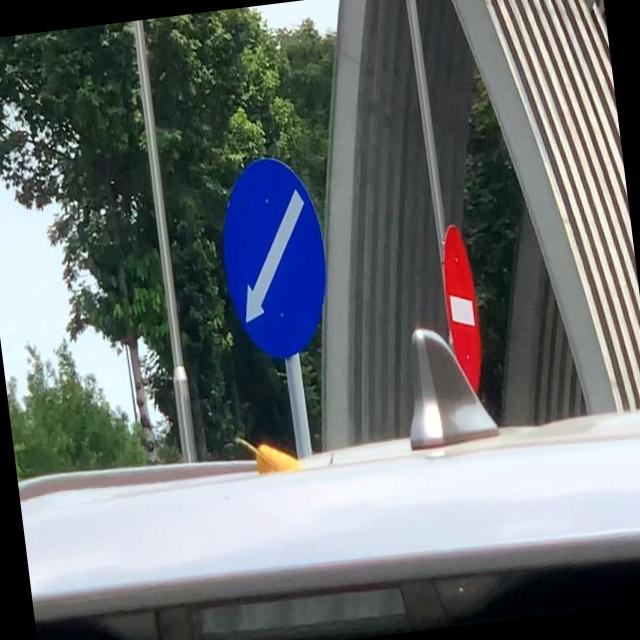P-102: (439, 220, 487, 394)
R-302b: (210, 154, 336, 362)
